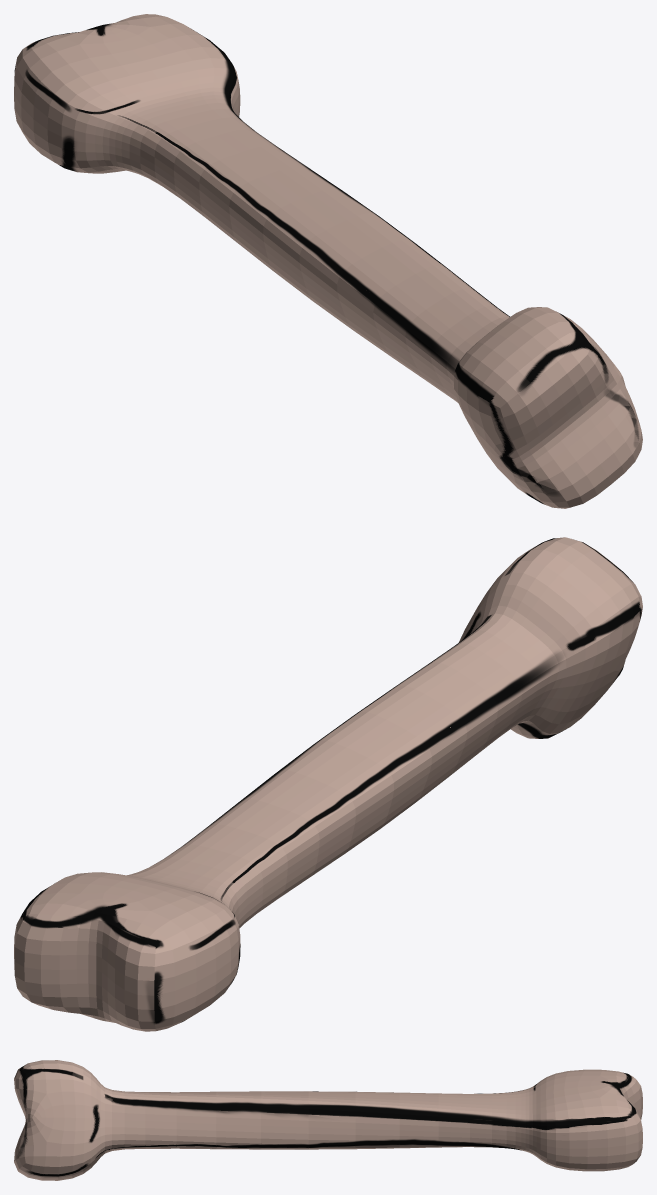
Rendered from Bone.fbx.
3 renders of one model, top to bottom at view 1: azimuth 30°, elevation 25°; view 2: azimuth 150°, elevation 25°; view 3: azimuth 270°, elevation 25°, orthographic. The views are drawn at different scales.
Visible parts, largest first — view 1: Cube; view 2: Cube; view 3: Cube.
Part boxes in pixels (x1,y1,x2,y2): Cube: [14, 14, 642, 508]; Cube: [14, 537, 642, 1031]; Cube: [14, 1060, 642, 1180].
Size of the model in its own units: 20.26 by 19.3 by 95.76.
1 material, 1 textured.
